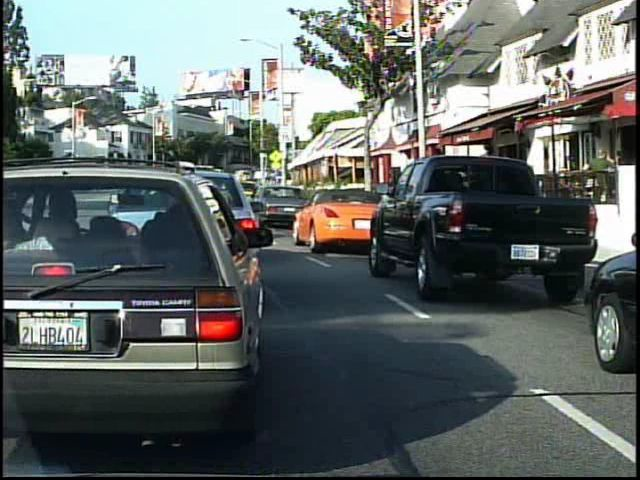person: (584, 141, 618, 225)
